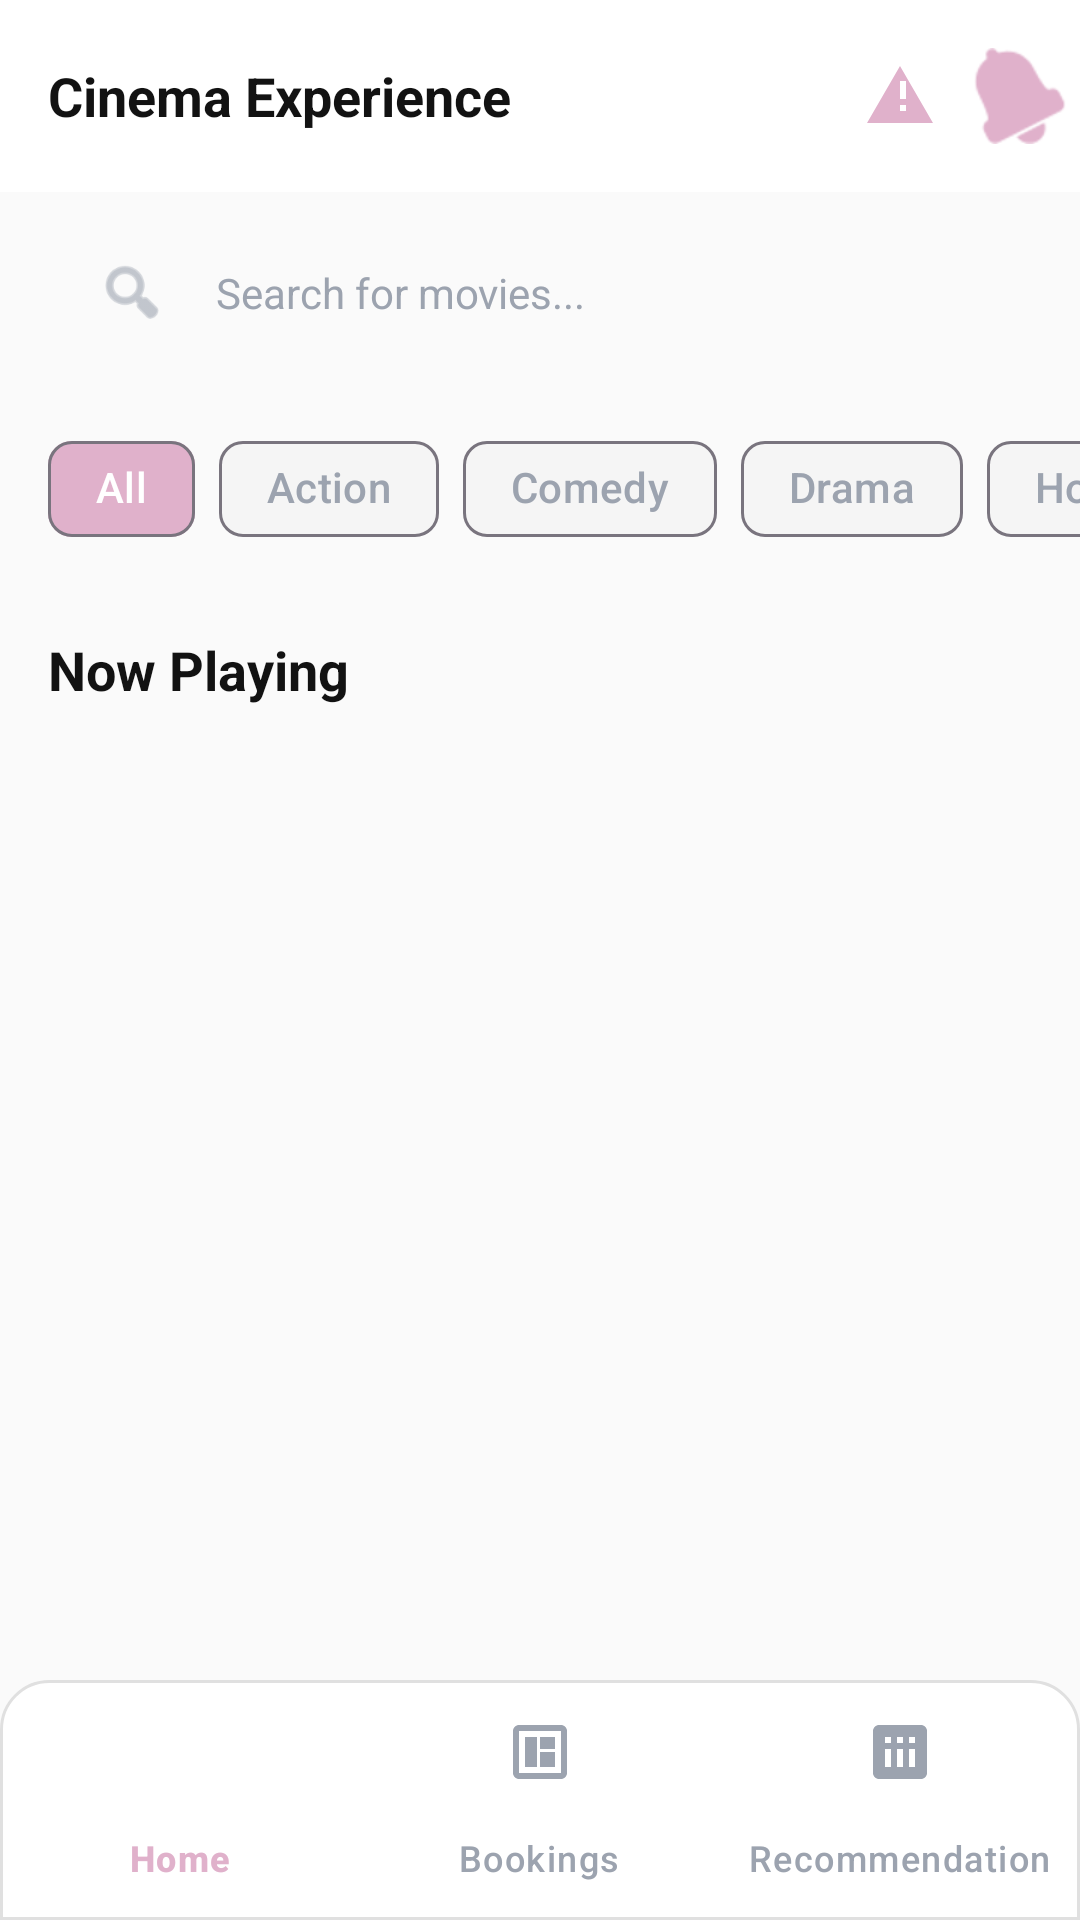

Where to tap for icons on this 1080px×1920px app screen, as point (x, y):
Complaints: point (900, 95)
Notifications: point (1020, 96)
